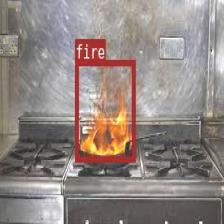fire: (75, 59, 134, 161)
